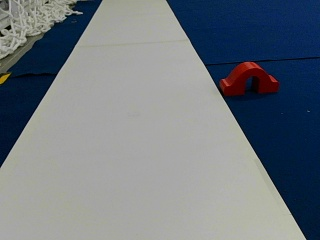bridge: (221, 62, 277, 93)
